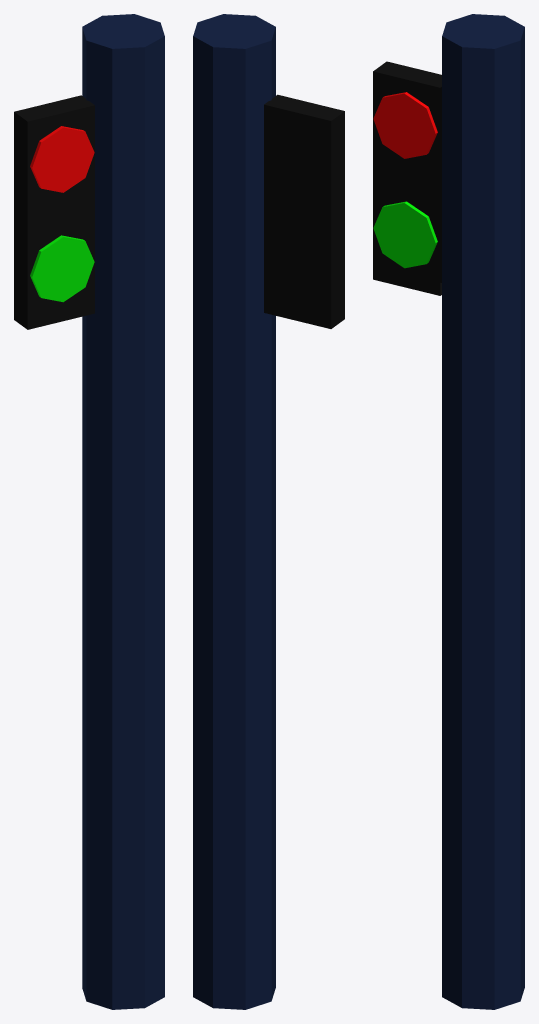
Rendered from semaforo_pedestres.fbx.
The picture shows the model from 3 angles, left to right: view 1: azimuth 30°, elevation 25°; view 2: azimuth 150°, elevation 25°; view 3: azimuth 330°, elevation 25°; orthographic projection.
Parts seen in each view (by area): view 1: semaforo_pedestres; view 2: semaforo_pedestres; view 3: semaforo_pedestres.
Part boxes in pixels (left/top/right/bottom): semaforo_pedestres: left=14, top=14, right=164, bottom=1009; semaforo_pedestres: left=193, top=14, right=344, bottom=1009; semaforo_pedestres: left=373, top=14, right=524, bottom=1009.
Bounding box in the file's own units: 28.48 × 187 × 15.07.
